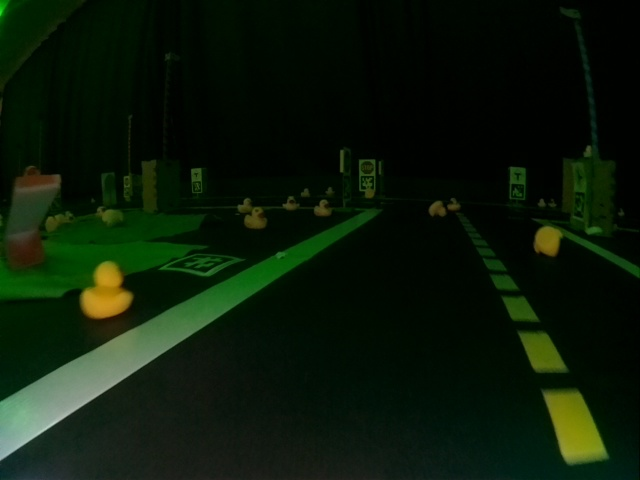Duckie: (84, 262, 131, 317), (534, 226, 562, 255), (247, 208, 268, 228), (428, 201, 445, 215), (314, 201, 328, 216), (238, 197, 251, 210), (286, 197, 297, 209)
Intersection sign: (573, 165, 586, 188), (510, 168, 523, 183)
QR code: (162, 253, 244, 274), (573, 195, 585, 218), (360, 175, 374, 190), (510, 186, 525, 197)
Stop sign: (360, 161, 375, 173)
